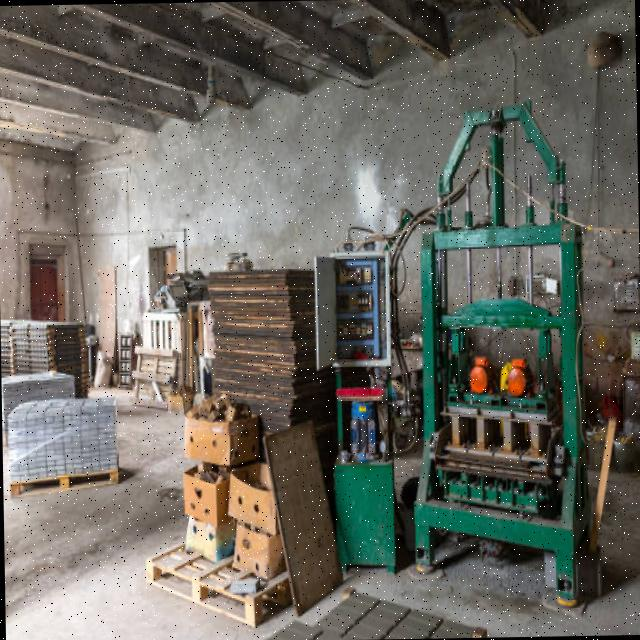Wooden-Pallets: (144, 539, 290, 630), (4, 464, 121, 500)
